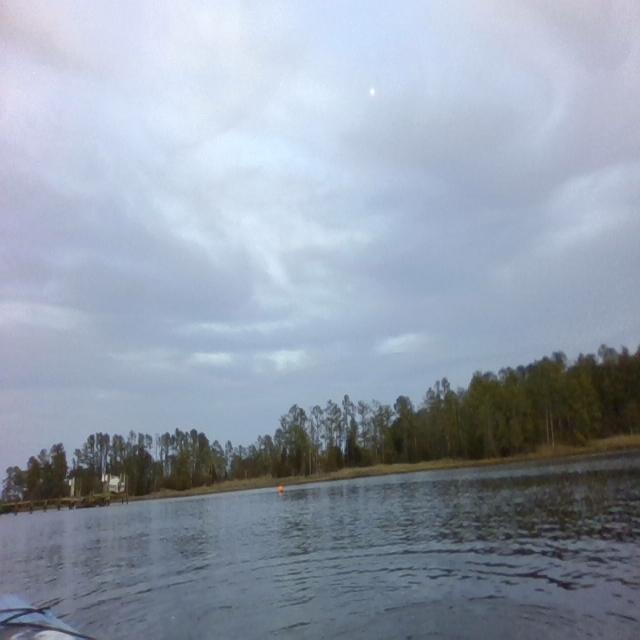Buoy: (276, 481, 286, 500)
